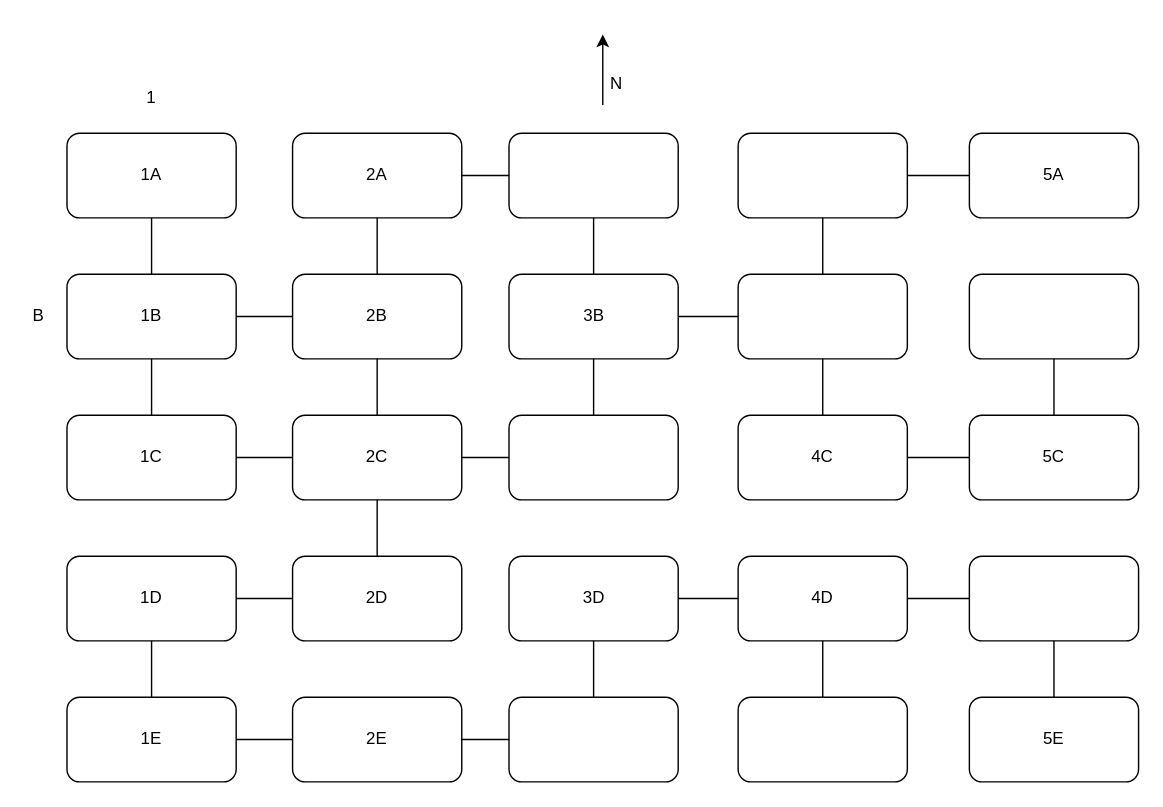
The diagram is 1163 pixels wide and 807 high, and some of its shapes have lost their labels. The shapes that lost their labels are listed below. From the top down, each one's centre as x and y in pixels, then its label:
the point at 593,175: 3A
the point at 822,175: 4A
the point at 822,316: 4B
the point at 1053,316: 5B
the point at 593,457: 3C
the point at 1053,598: 5D
the point at 593,739: 3E
the point at 822,739: 4E
